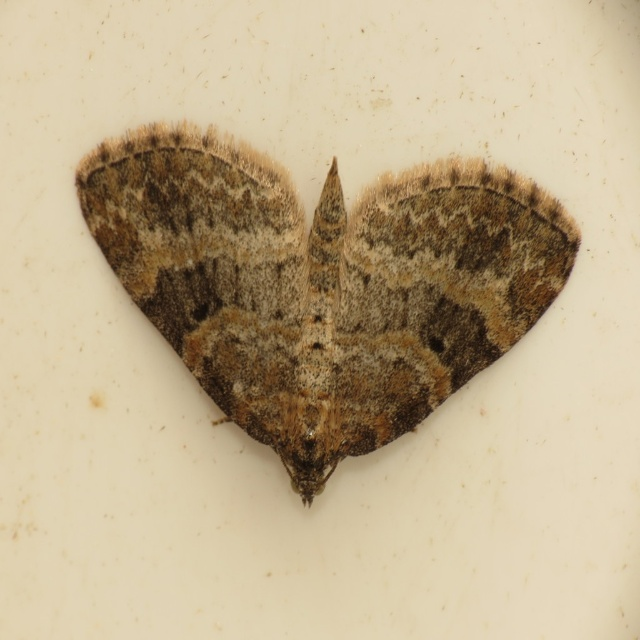Moths and butterflies: (75, 118, 582, 507)
